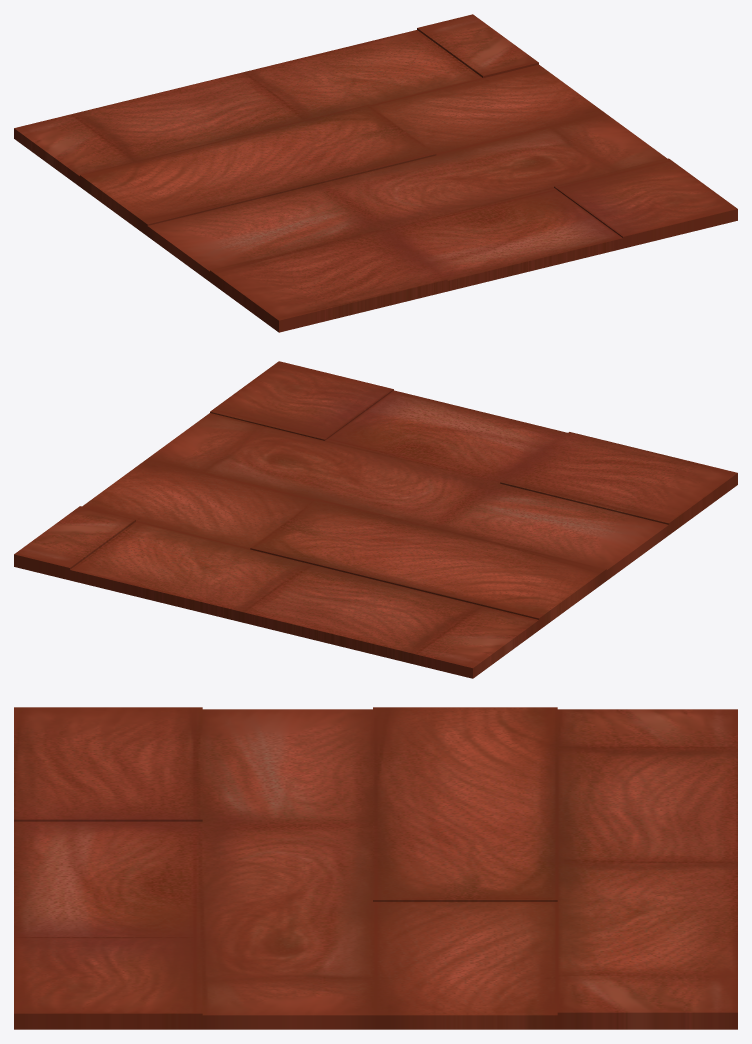
File: floor.obj
3 views of the same model, one above another, from view 1: azimuth 30°, elevation 25°; view 2: azimuth 150°, elevation 25°; view 3: azimuth 270°, elevation 25° (orthographic). The views are drawn at different scales.
Parts seen in each view (by area): view 1: floor; view 2: floor; view 3: floor.
Part boxes in pixels (x1,y1,x2,y2): floor: [14, 14, 737, 332]; floor: [14, 361, 737, 678]; floor: [14, 707, 737, 1029].
Size of the model in its own units: 1 by 0.0259 by 1.
